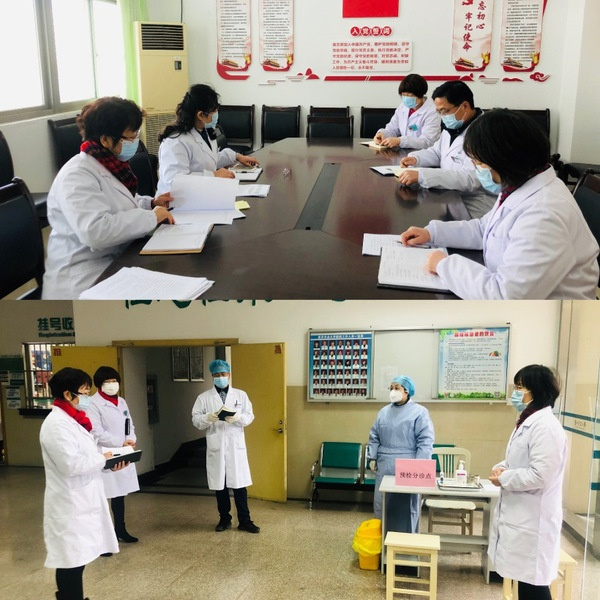correctlyWear: (469, 146, 509, 198), (100, 121, 143, 163), (434, 97, 470, 128), (511, 375, 537, 412), (64, 383, 94, 410), (198, 100, 220, 131), (399, 86, 421, 109), (211, 369, 232, 389), (389, 384, 410, 404), (100, 377, 120, 397)
